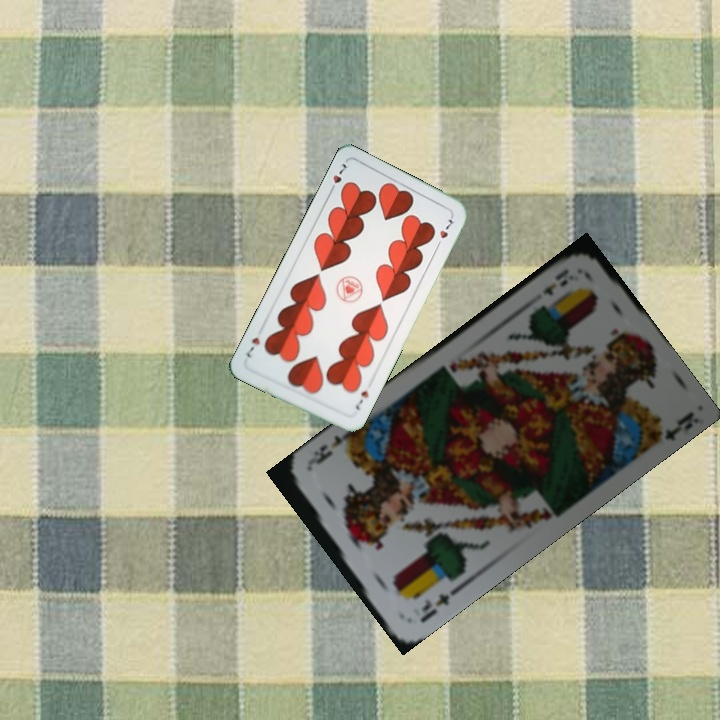EK: (416, 584, 460, 626), (538, 265, 572, 298)
H7: (325, 159, 351, 196), (351, 387, 371, 413)
